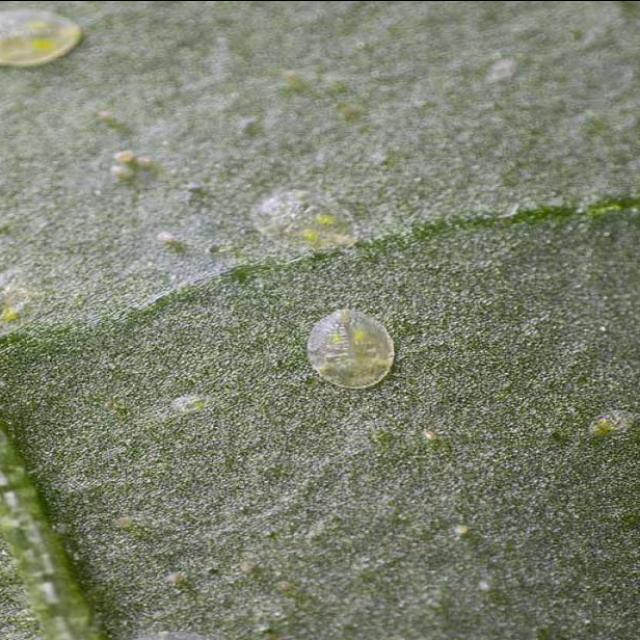Whitefly: (224, 172, 376, 264), (292, 300, 404, 402), (0, 0, 94, 76)
